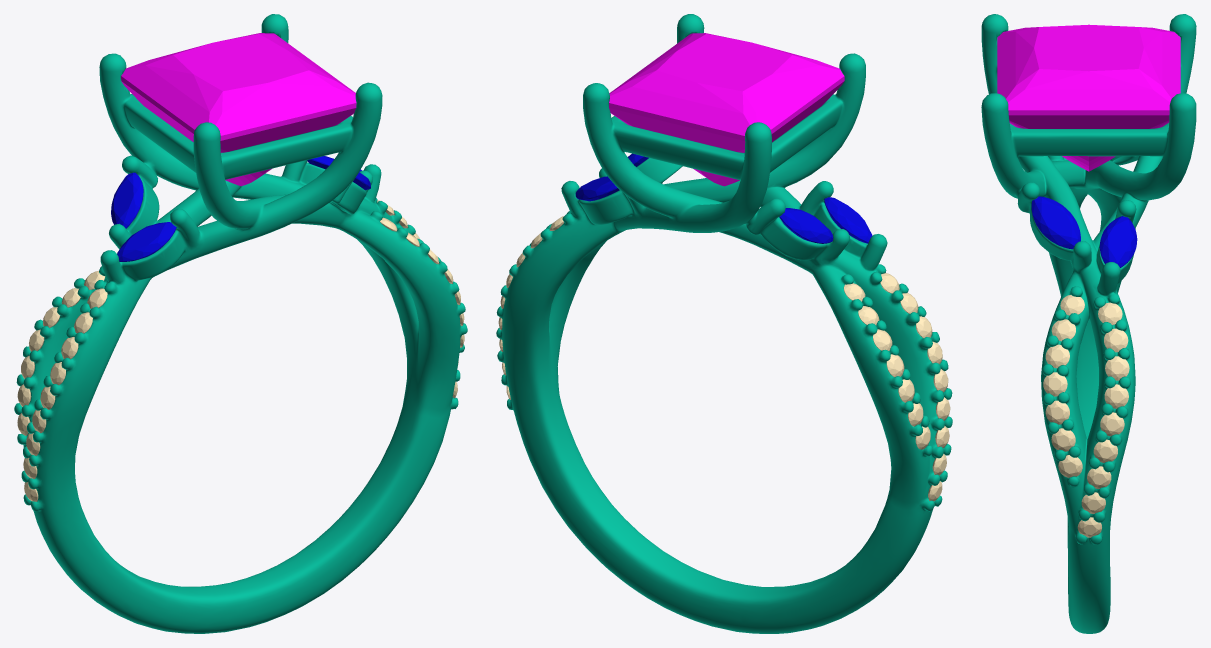
Rendered from BE104B_PR_200ct_RENDER.glb.
3 renders of one model, left to right at view 1: azimuth 30°, elevation 25°; view 2: azimuth 150°, elevation 25°; view 3: azimuth 270°, elevation 25°, orthographic.
Visible parts, largest first — view 1: Metal 01, CS_Diamond_Princess, Diamond_Marquise_side.002, Diamond_Marquise_side.003; view 2: Metal 01, CS_Diamond_Princess, Diamond_Marquise_side.003, Diamond_Marquise_side.002, Diamond_Marquise_side; view 3: Metal 01, CS_Diamond_Princess, Diamond_Marquise_side.001, Diamond_Marquise_side, Diamond_Round_Gem_SH.002, Diamond_Round_Gem_SH.005, Diamond_Round_Gem_SH.003, Diamond_Round_Gem_SH.004, Diamond_Round_Gem_SH.010, Diamond_Round_Gem_SH.001, Diamond_Round_Gem_SH.006, Diamond_Round_Gem_SH.009 (+8 smaller).
Part boxes in pixels (box(x1,y1,x2,y2)): Metal 01: box(14, 14, 467, 633); CS_Diamond_Princess: box(121, 33, 356, 186); Diamond_Marquise_side.002: box(117, 222, 176, 261); Diamond_Marquise_side.003: box(111, 172, 143, 228); Metal 01: box(496, 14, 952, 633); CS_Diamond_Princess: box(609, 33, 844, 186); Diamond_Marquise_side.003: box(779, 208, 833, 243); Diamond_Marquise_side.002: box(824, 197, 872, 243); Diamond_Marquise_side: box(575, 176, 619, 201); Metal 01: box(981, 14, 1196, 633); CS_Diamond_Princess: box(997, 24, 1180, 171); Diamond_Marquise_side.001: box(1031, 196, 1080, 249); Diamond_Marquise_side: box(1099, 216, 1137, 267); Diamond_Round_Gem_SH.002: box(1043, 372, 1067, 396); Diamond_Round_Gem_SH.005: box(1045, 400, 1069, 424); Diamond_Round_Gem_SH.003: box(1105, 356, 1129, 380); Diamond_Round_Gem_SH.004: box(1104, 384, 1128, 408); Diamond_Round_Gem_SH.010: box(1100, 412, 1124, 436); Diamond_Round_Gem_SH.001: box(1045, 344, 1069, 368); Diamond_Round_Gem_SH.006: box(1051, 428, 1075, 451); Diamond_Round_Gem_SH.009: box(1104, 328, 1128, 352).
Bounding box in the file's own units: 20.63 × 25.45 × 8.81.
